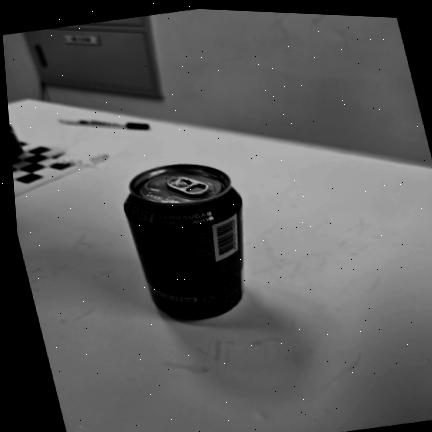can_pepsi_zero: (125, 165, 243, 319)
